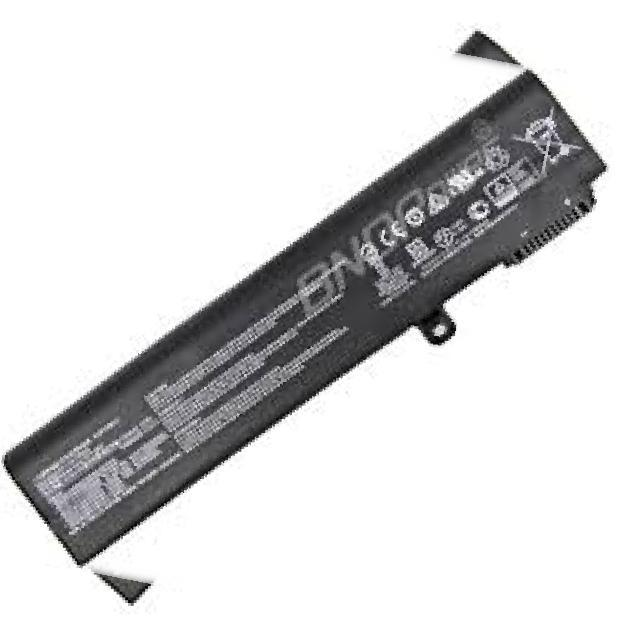Battery: (0, 65, 610, 570)
